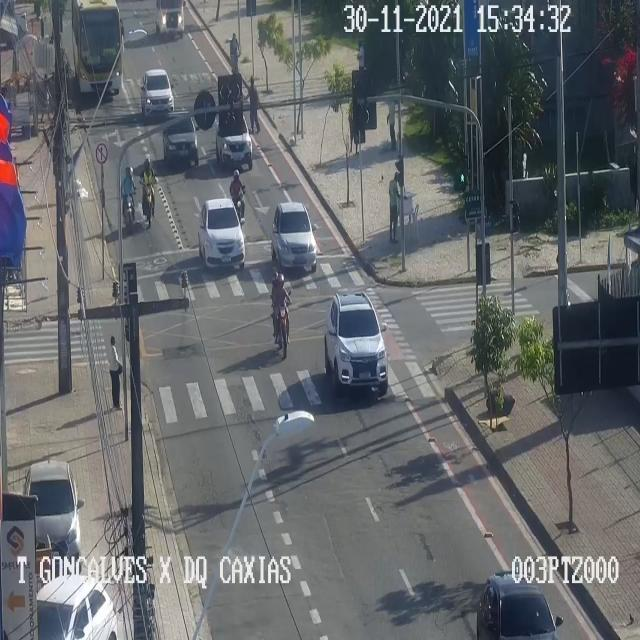Bus: (78, 0, 120, 96)
Car: (469, 553, 577, 640), (326, 292, 390, 394), (36, 569, 118, 639), (24, 461, 82, 556), (271, 201, 319, 273), (200, 199, 246, 271), (215, 118, 254, 172), (163, 114, 199, 164), (140, 67, 174, 116), (155, 0, 189, 42)
Motorcycle: (271, 268, 291, 356), (138, 155, 158, 225), (388, 170, 402, 241), (121, 167, 137, 228), (230, 167, 244, 233)
